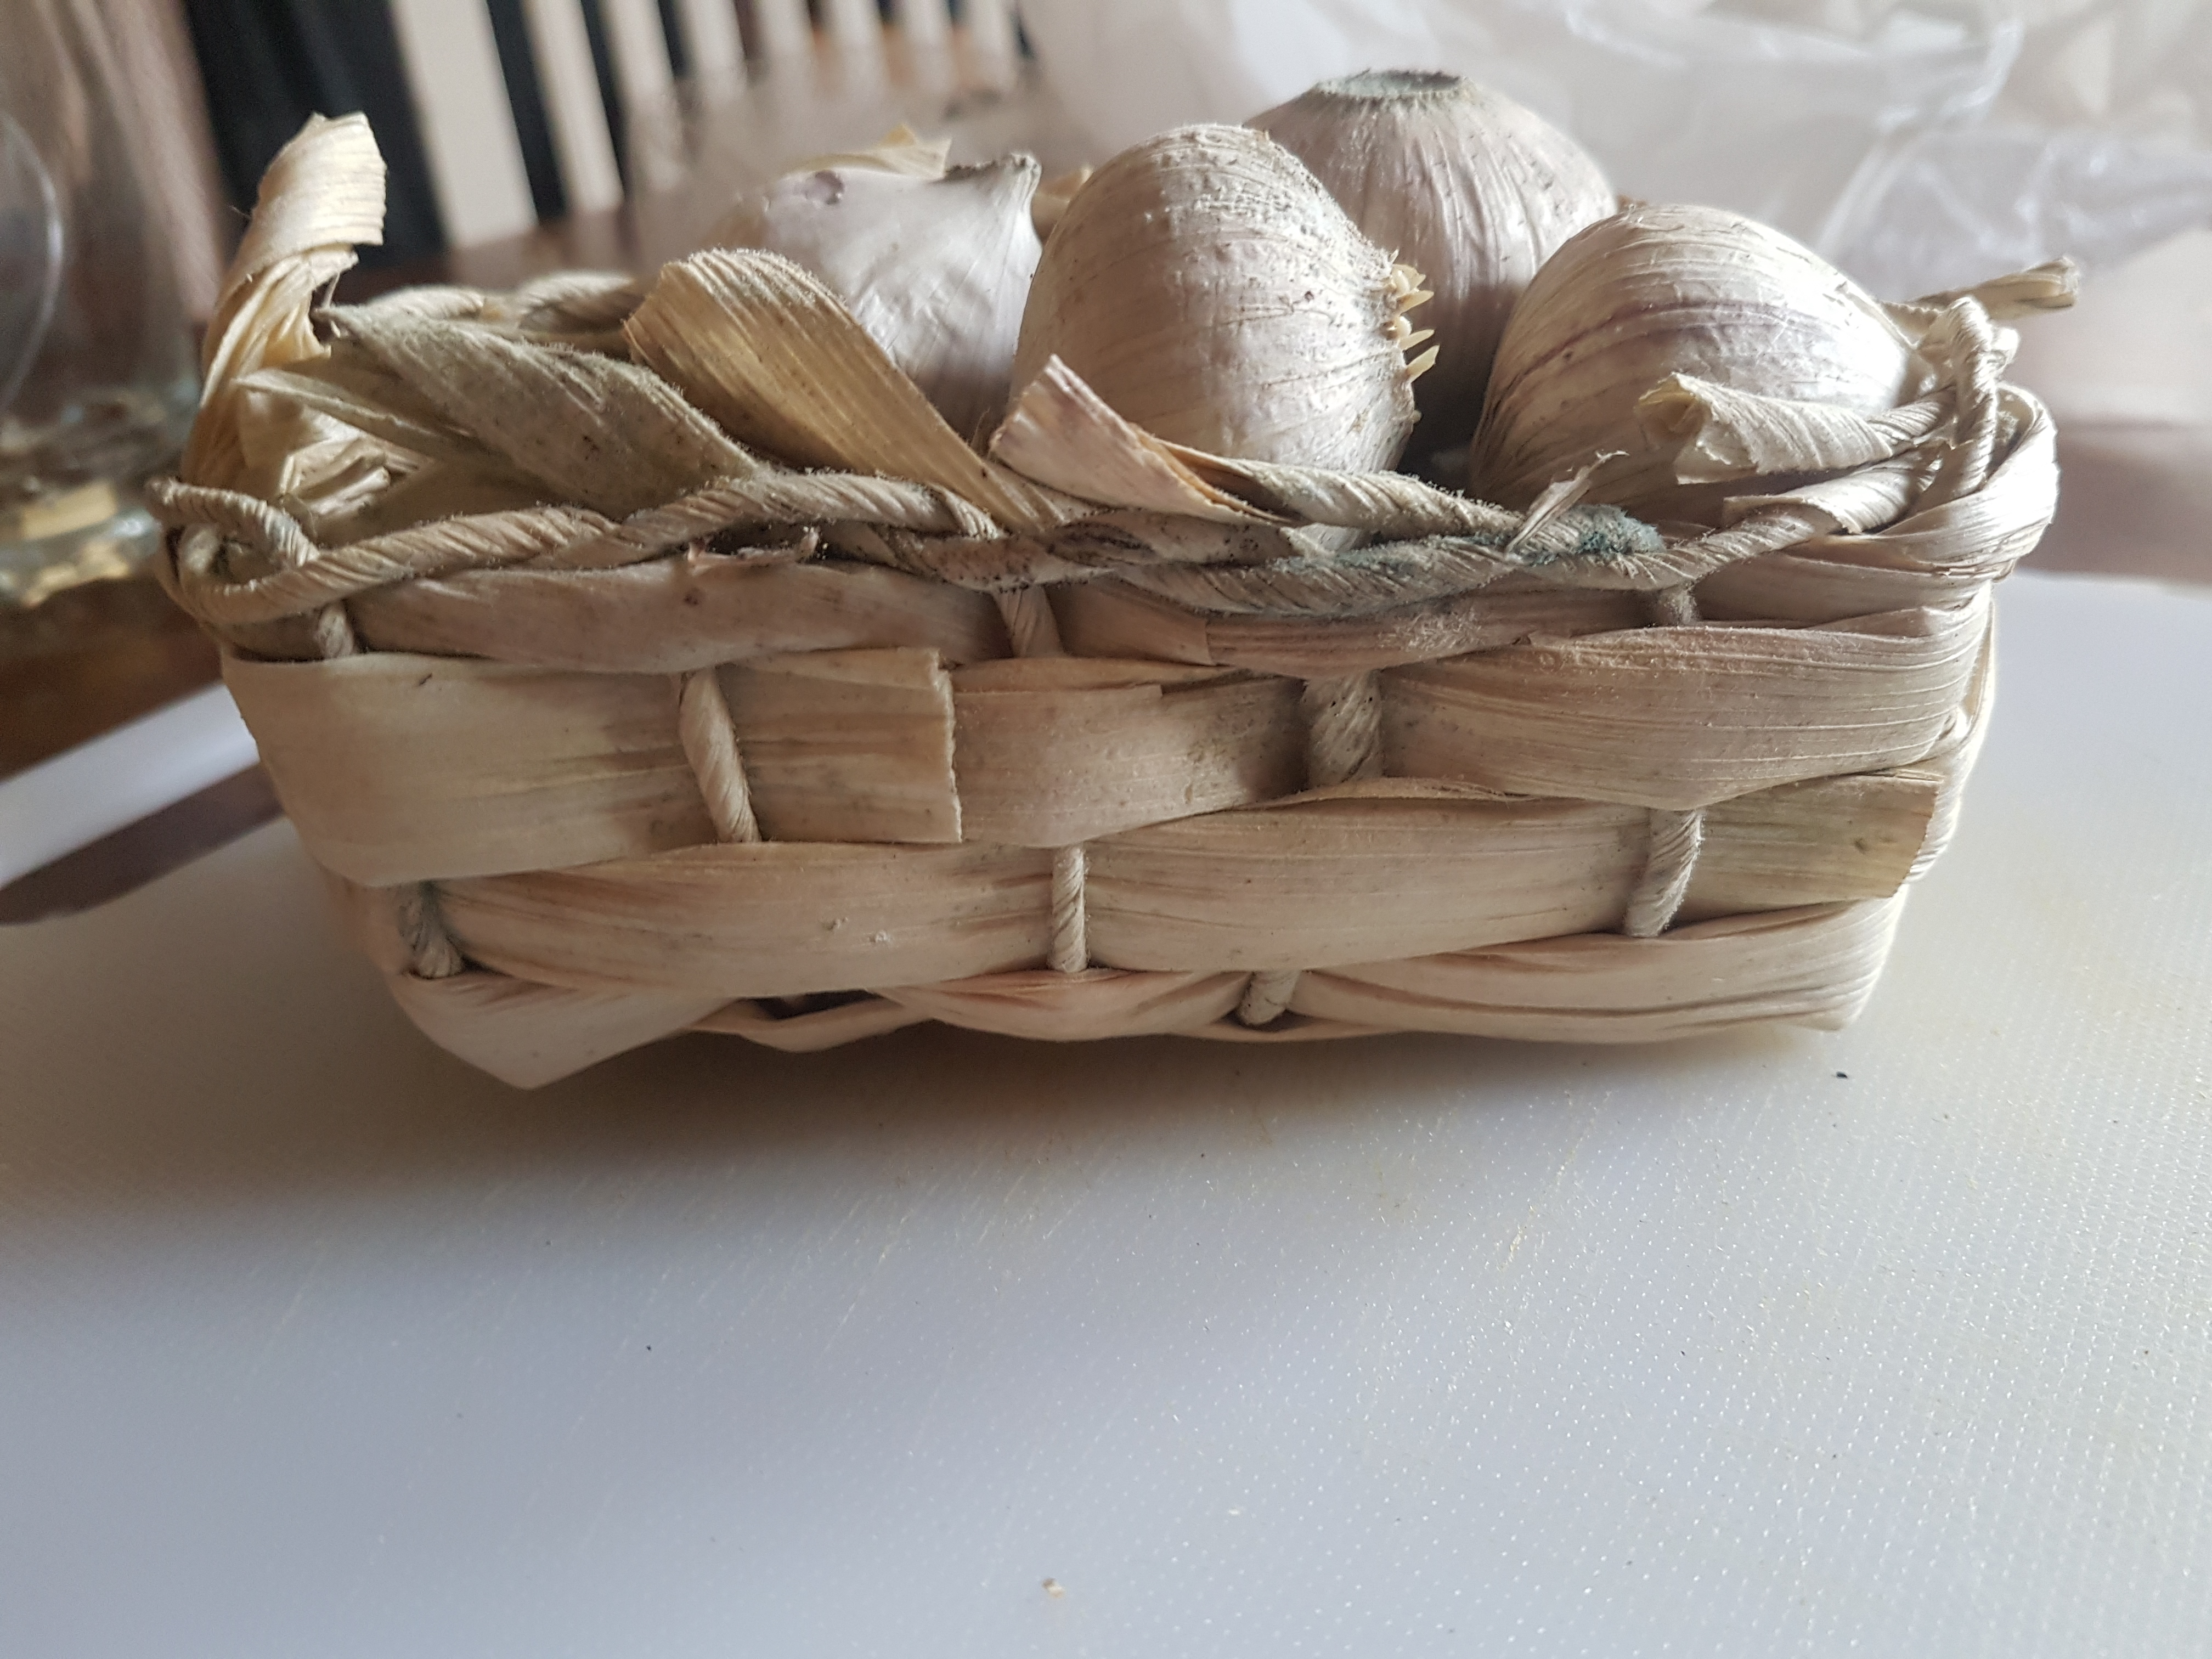Garlic cloves: (1437, 225, 1956, 554), (979, 150, 1428, 474), (681, 124, 1057, 401), (1292, 80, 1658, 361)
